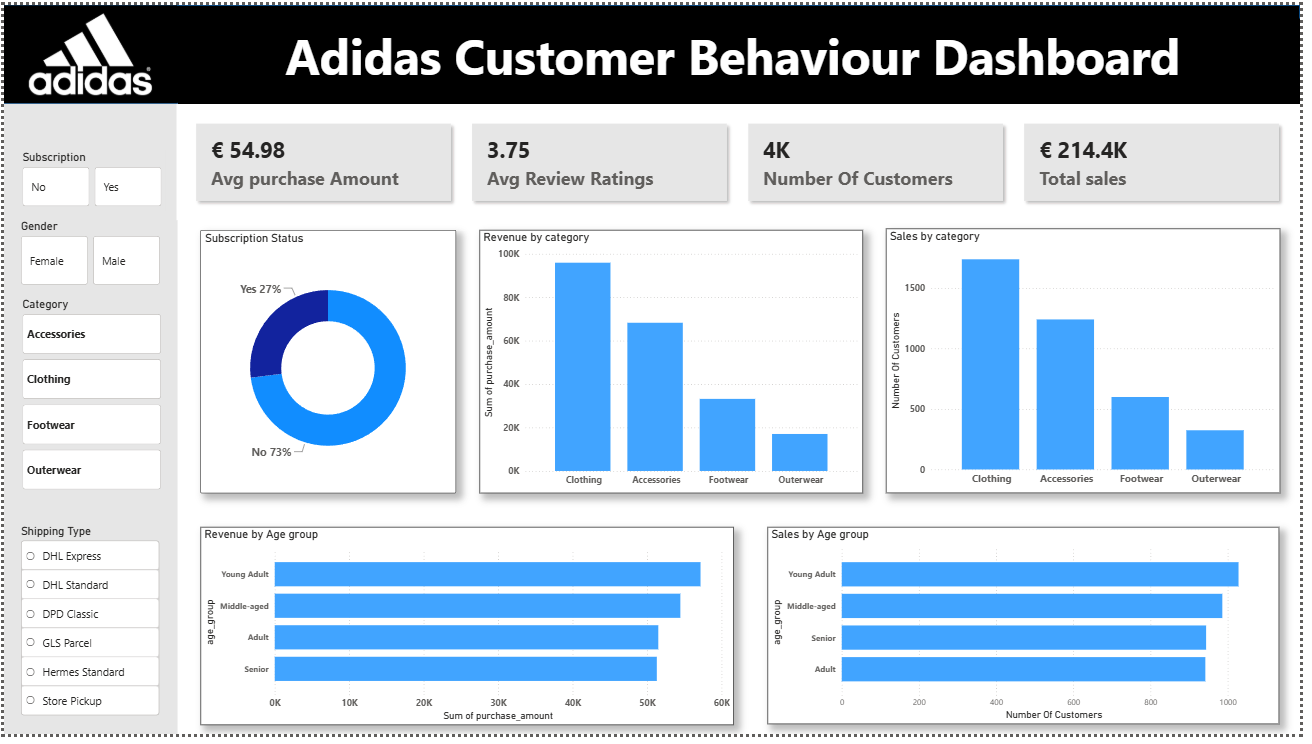

The page's visual inventory and layout, read from the dashboard file:
{"tool":"powerbi","page":{"name":"Page 1","canvas":[1920,1080],"ordinal":0},"visuals":[{"type":"shape","box":[0,145.7,257.1,934.3],"z":0},{"type":"cardVisual","fields":{"Data":["_measures.Avg purchase Amount","_measures.Avg Review Ratings","_measures.Number Of Customers","_measures.Total sales"]},"box":[256,146,1664,172],"z":1000},{"type":"donutChart","title":"Subscription Status","fields":{"Category":["customer.subscription_status"],"Y":["_measures.Number Of Customers"]},"box":[290,333.3,378.3,390],"z":2000},{"type":"clusteredColumnChart","title":"Revenue by category","fields":{"Category":["customer.category"],"Y":["Sum(customer.purchase_amount)"]},"box":[704,334,568,390],"z":3000},{"type":"clusteredColumnChart","title":"Sales by category","fields":{"Category":["customer.category"],"Y":["_measures.Number Of Customers"]},"box":[1306,332,584,392],"z":4000},{"type":"barChart","title":"Revenue by Age group","fields":{"Category":["customer.age_group"],"Y":["Sum(customer.purchase_amount)"]},"box":[290,773.3,790,293.3],"z":5000},{"type":"barChart","title":"Sales by Age group","fields":{"Category":["customer.age_group"],"Y":["_measures.Number Of Customers"]},"box":[1132,774,758,292],"z":6000},{"type":"shape","box":[0,0,1920,146],"z":7000},{"type":"image","box":[0,0,256.2,146.2],"z":8000},{"type":"textbox","box":[256.7,20,1663.3,126.7],"z":9000},{"type":"advancedSlicerVisual","title":"Subscription","fields":{"Values":["customer.subscription_status"]},"box":[21.7,215,216.7,88.3],"z":10000},{"type":"advancedSlicerVisual","title":"Category","fields":{"Values":["customer.category"]},"box":[22,433,215,290],"z":11000},{"type":"advancedSlicerVisual","title":"Shipping Type","fields":{"Values":["customer.shipping_type"]},"box":[20,768.3,215,293.3],"z":12000},{"type":"advancedSlicerVisual","title":"Gender","fields":{"Values":["customer.gender"]},"box":[20,318.3,216.7,101.7],"z":13000}]}

Visuals, with their boxes in screenshot pixels (x1, y1, x2, y2), scaled from the page's 1920x1080 canvas onto the 1312x744 screenshot:
shape: [x1=0, y1=100, x2=176, y2=743]
cardVisual - _measures.Avg purchase Amount x _measures.Avg Review Ratings: [x1=175, y1=101, x2=1311, y2=219]
"Subscription Status" donutChart: [x1=198, y1=230, x2=457, y2=498]
"Revenue by category" clusteredColumnChart: [x1=481, y1=230, x2=869, y2=499]
"Sales by category" clusteredColumnChart: [x1=892, y1=229, x2=1292, y2=499]
"Revenue by Age group" barChart: [x1=198, y1=533, x2=738, y2=735]
"Sales by Age group" barChart: [x1=774, y1=533, x2=1292, y2=734]
shape: [x1=0, y1=0, x2=1311, y2=101]
image: [x1=0, y1=0, x2=175, y2=101]
textbox: [x1=175, y1=14, x2=1311, y2=101]
"Subscription" advancedSlicerVisual: [x1=15, y1=148, x2=163, y2=209]
"Category" advancedSlicerVisual: [x1=15, y1=298, x2=162, y2=498]
"Shipping Type" advancedSlicerVisual: [x1=14, y1=529, x2=161, y2=731]
"Gender" advancedSlicerVisual: [x1=14, y1=219, x2=162, y2=289]
